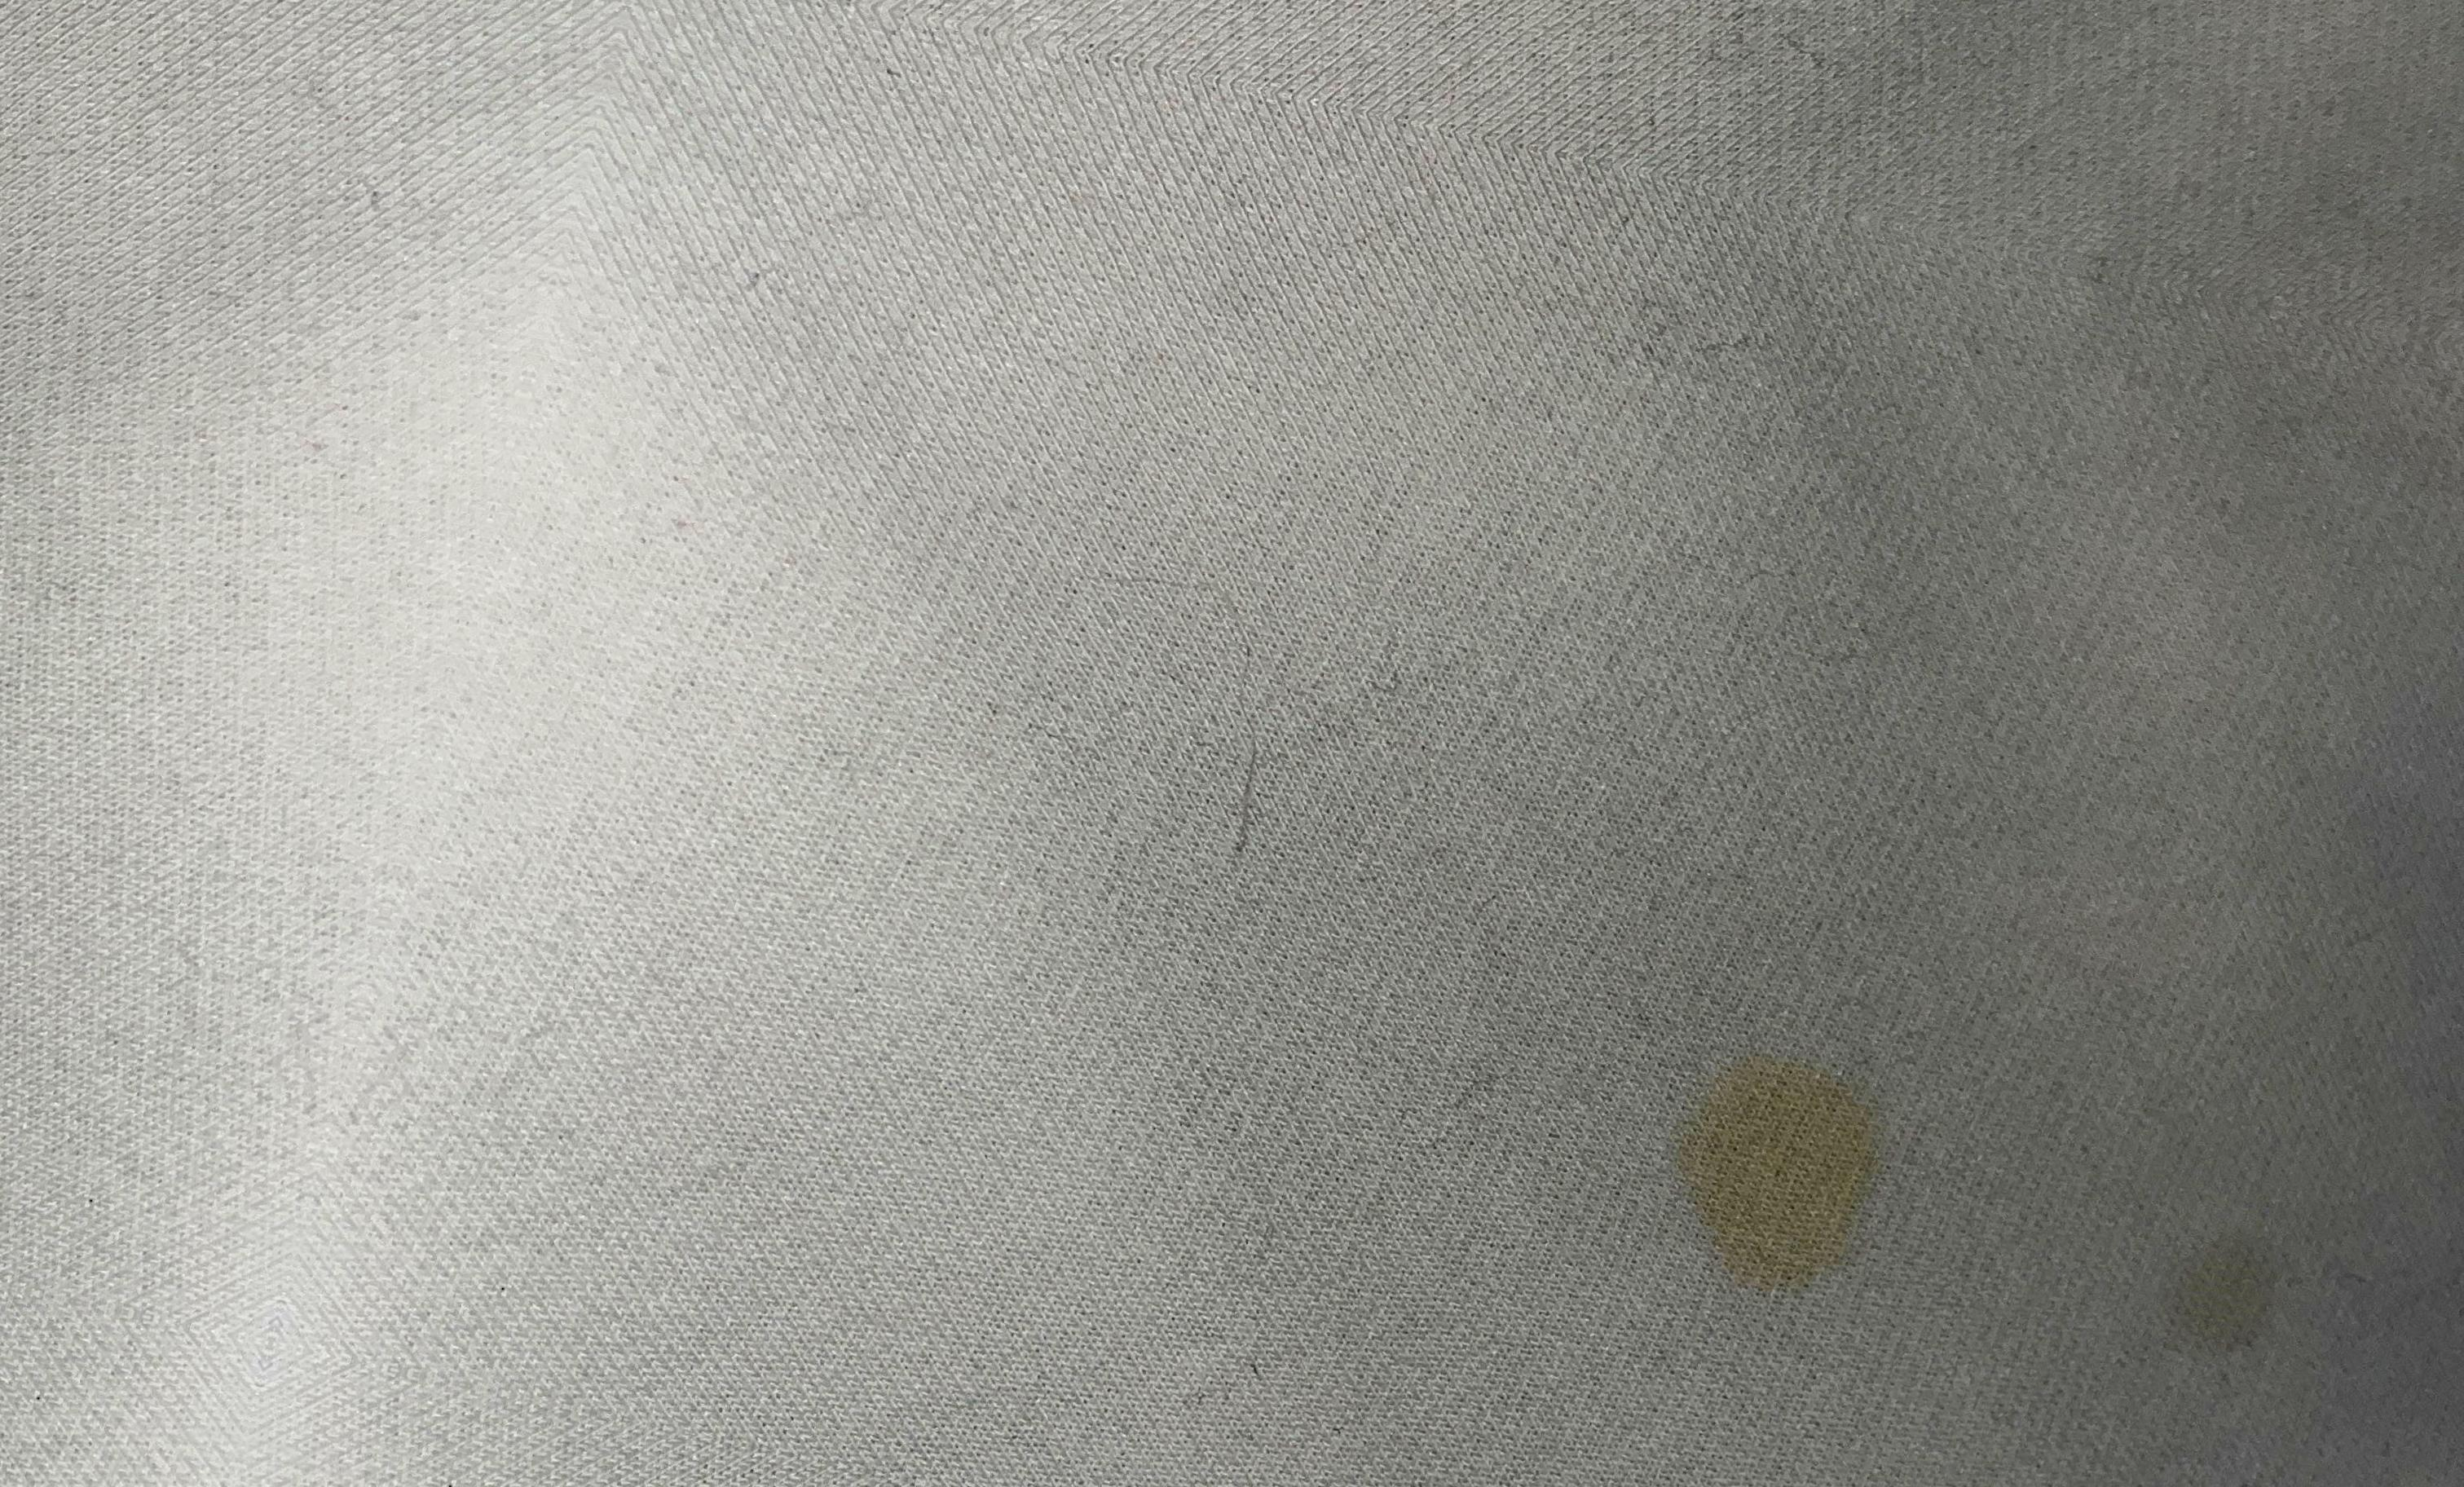stain: (1651, 1026, 1924, 1308), (2116, 1209, 2343, 1390)
